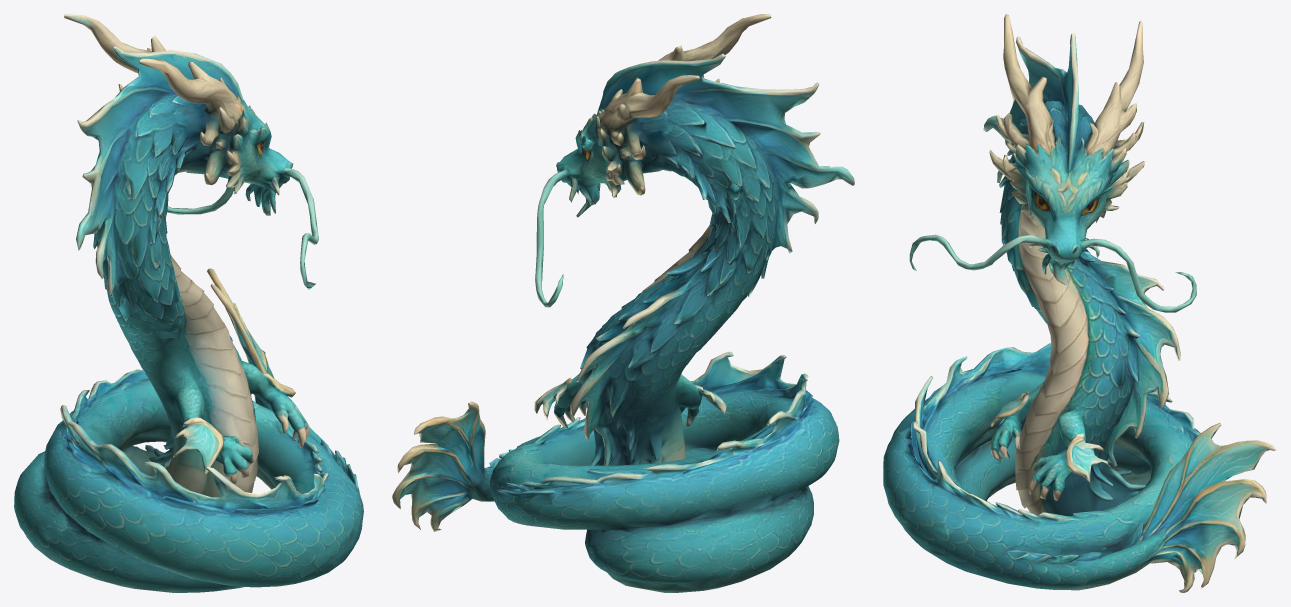
Rendered from rill.glb.
3 renders of one model, left to right at view 1: azimuth 30°, elevation 25°; view 2: azimuth 150°, elevation 25°; view 3: azimuth 270°, elevation 25°, orthographic. The views are drawn at different scales.
Parts seen in each view (by area): view 1: tripo_node_4282eb63-31c1-4958-afaa-e32751a72c0e; view 2: tripo_node_4282eb63-31c1-4958-afaa-e32751a72c0e; view 3: tripo_node_4282eb63-31c1-4958-afaa-e32751a72c0e.
Part boxes in pixels (bbox=[...]): tripo_node_4282eb63-31c1-4958-afaa-e32751a72c0e: bbox=[14, 14, 363, 592]; tripo_node_4282eb63-31c1-4958-afaa-e32751a72c0e: bbox=[392, 14, 854, 592]; tripo_node_4282eb63-31c1-4958-afaa-e32751a72c0e: bbox=[883, 14, 1276, 592].
Bounding box in the file's own units: 0.6613 × 1 × 0.7461.
Materials: 1 (1 with a texture image).
